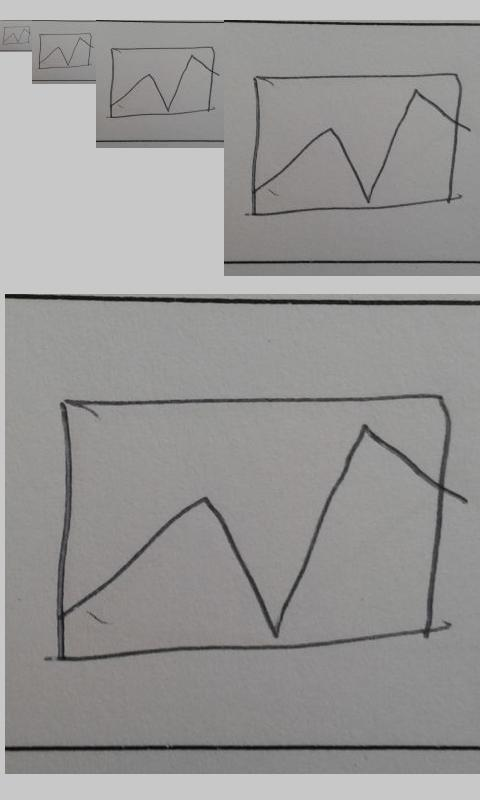image_view: (54, 391, 451, 663), (251, 72, 462, 217), (109, 46, 216, 119), (38, 32, 92, 70), (3, 26, 30, 45)
